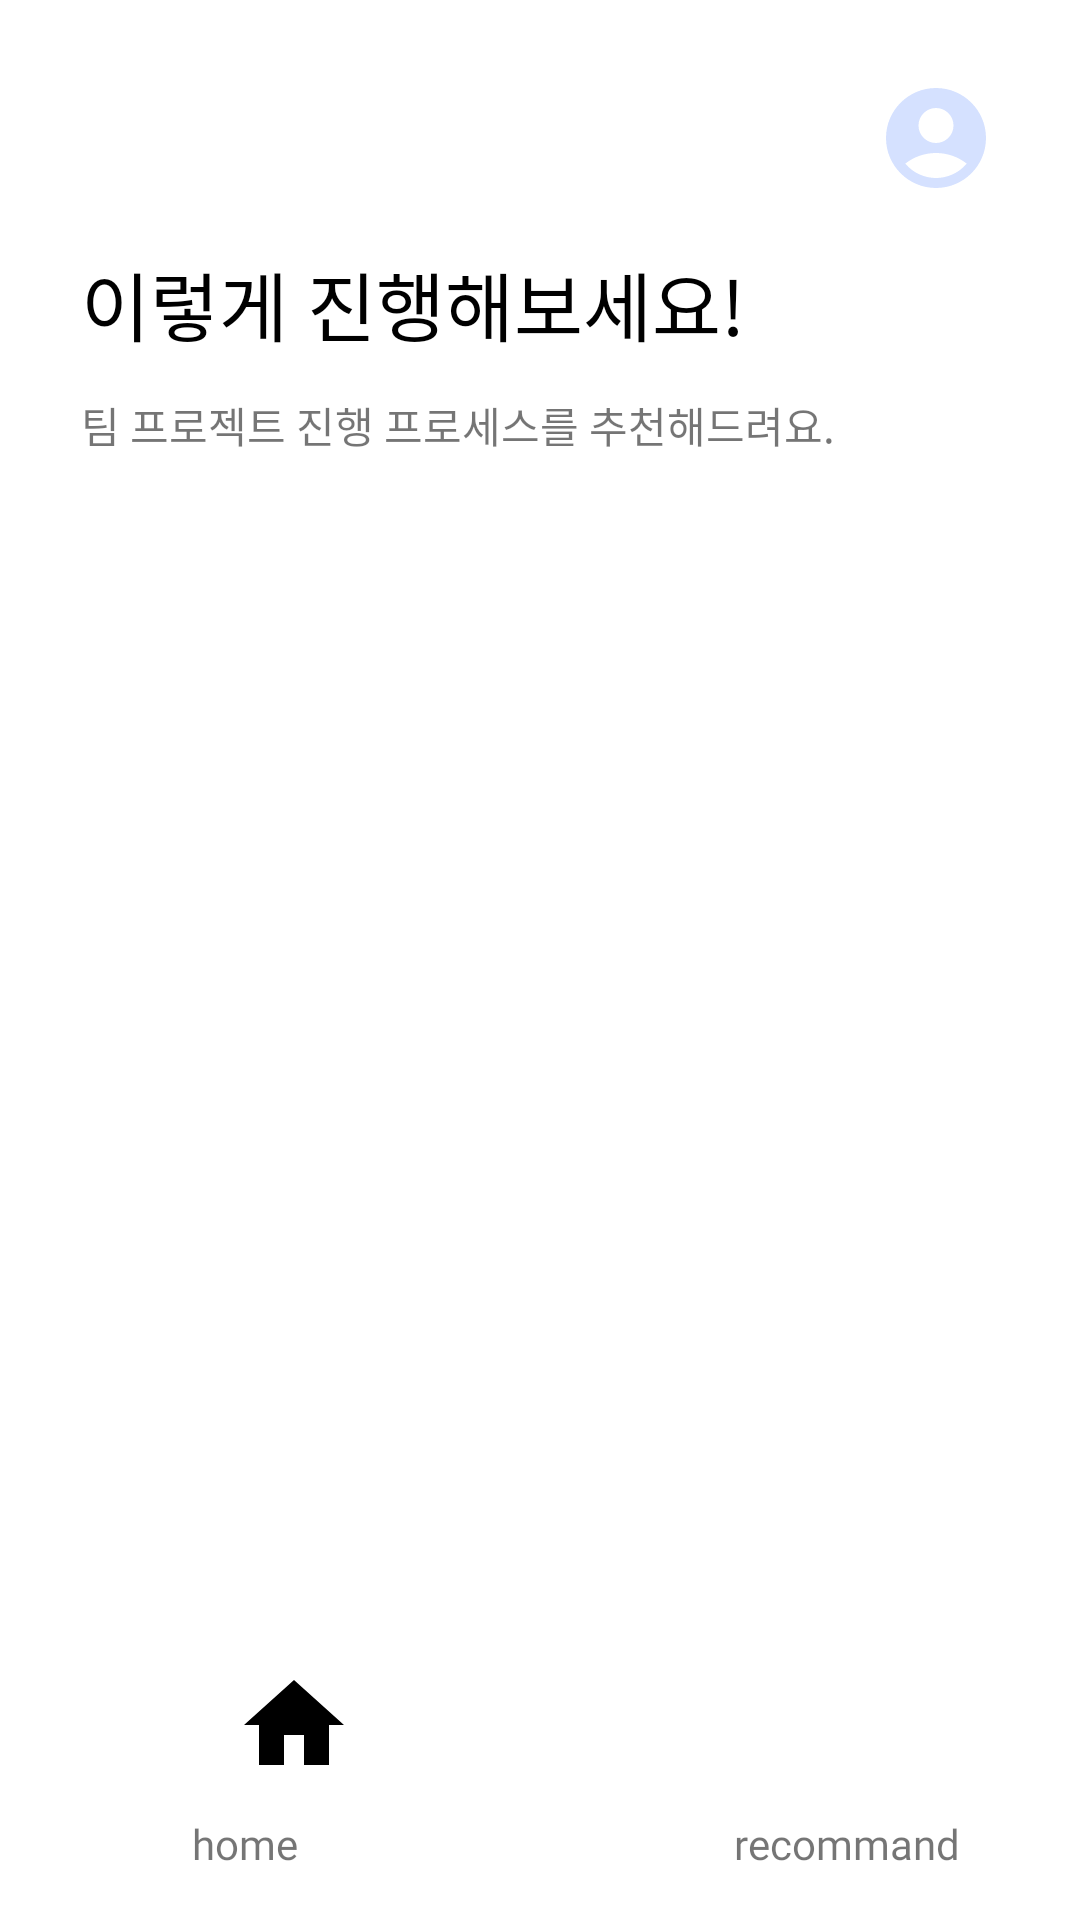

Named icons in this screenshot (1080×1920) and their centers, [x,y]:
myaccount: [936,138]
